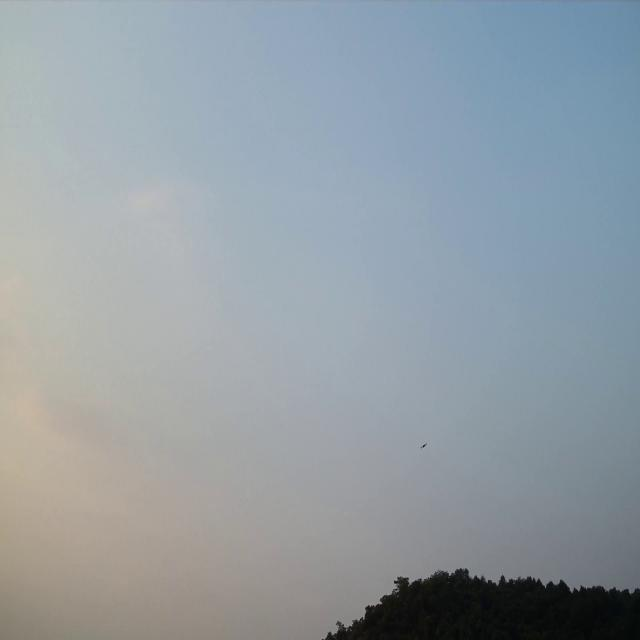drone: (420, 442, 428, 449)
